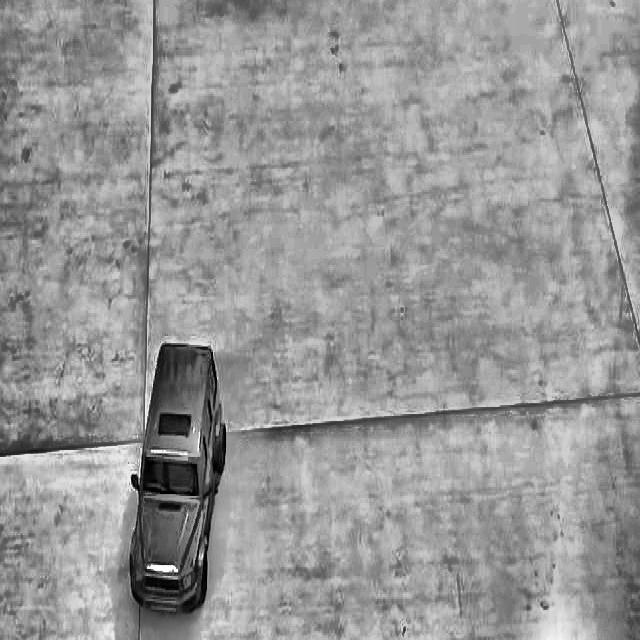light_vehicle: (124, 329, 222, 615)
